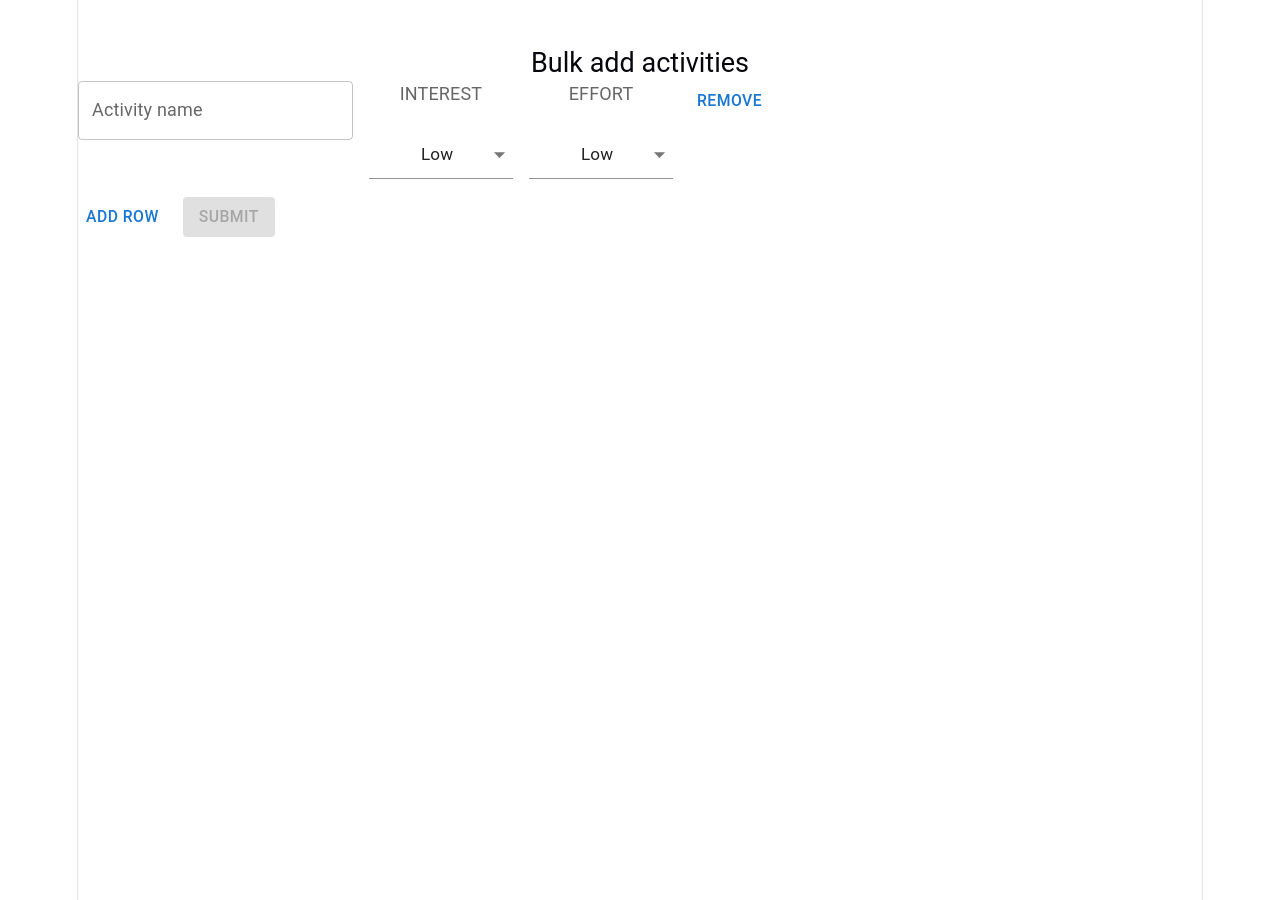
it: BulkAddForm › disables Submit with no rows
This screenshot has width=1280, height=900.
Click the button with aria-label "Remove activity 1". click: (730, 101)
box: [689,81,770,121]
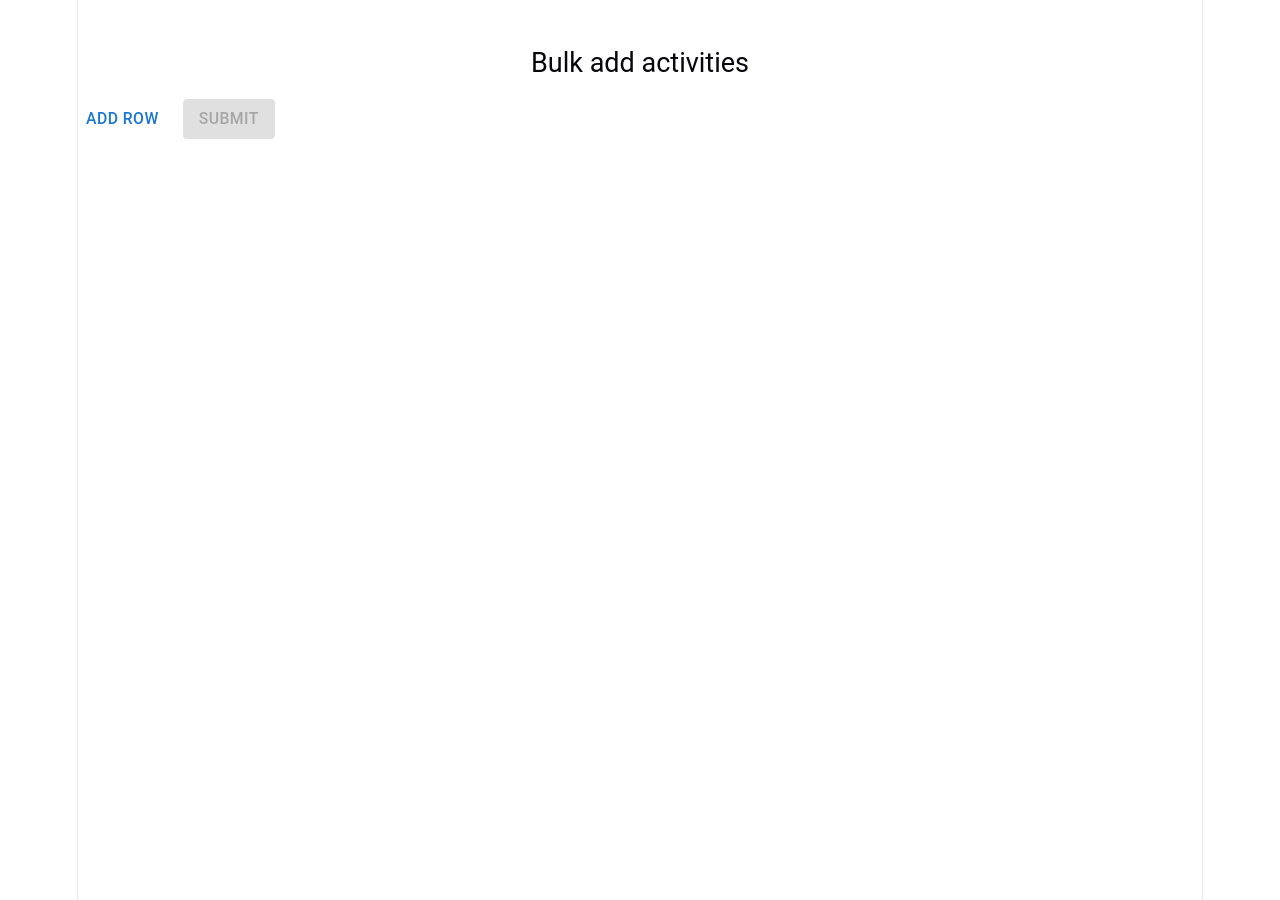
Expected: the button "Submit" is disabled, [183,99,275,139]
Now no labels labelled "Activity name" are shown
